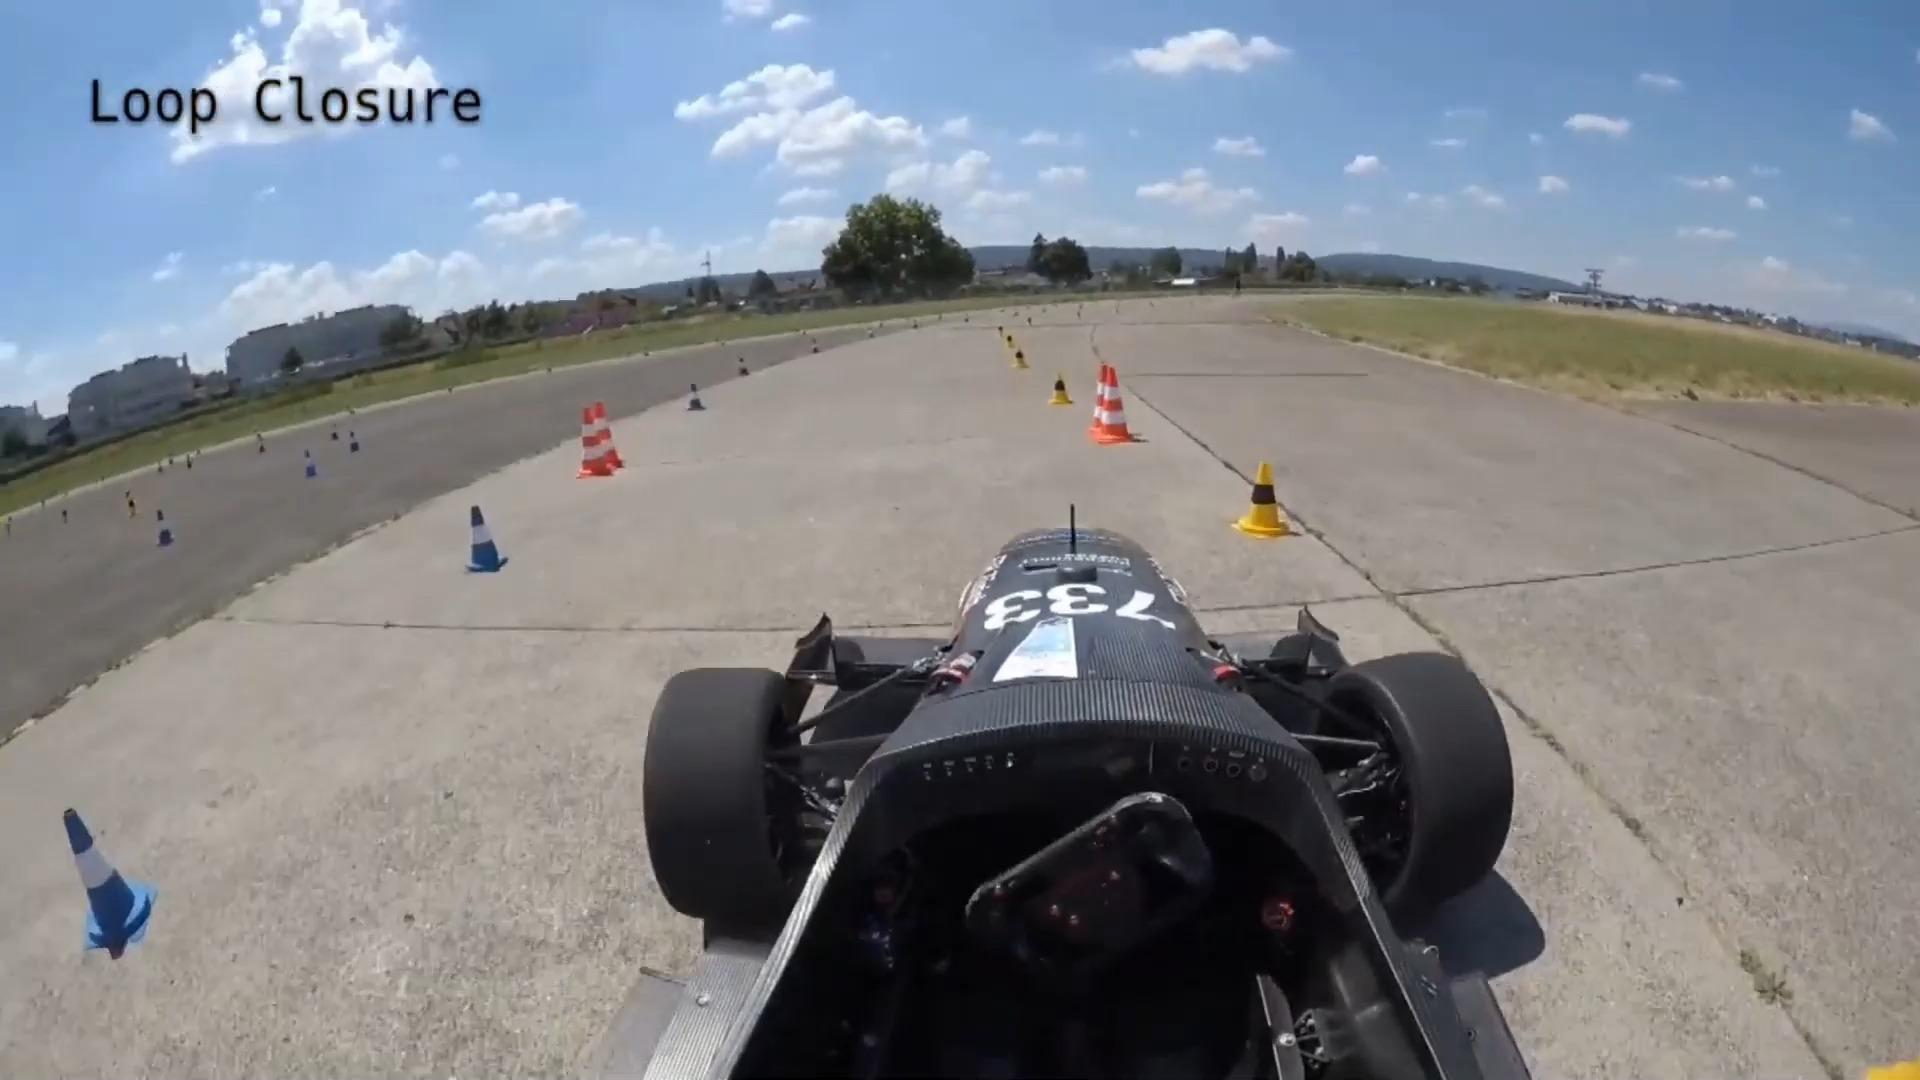blue_cone: (66, 786, 158, 961), (464, 493, 509, 576), (156, 506, 178, 547), (684, 382, 704, 413), (305, 444, 318, 484), (349, 427, 360, 454), (328, 419, 339, 443), (736, 357, 748, 378), (810, 336, 820, 359)
large_orange_cone: (1098, 365, 1135, 446), (572, 405, 609, 481), (1087, 359, 1117, 436), (596, 397, 624, 477)
yellow_cone: (1234, 456, 1286, 541), (1048, 373, 1073, 411), (1014, 342, 1029, 371), (1007, 327, 1022, 352), (128, 497, 141, 522)
